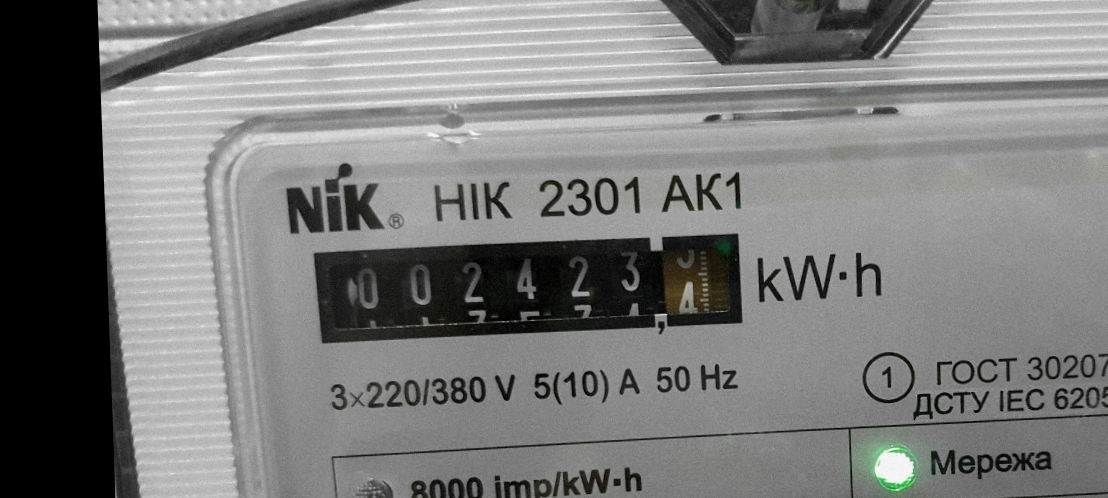0: (354, 263, 382, 312), (407, 262, 434, 307)
2: (459, 258, 486, 305), (566, 254, 591, 300)
3: (617, 248, 642, 294), (675, 246, 697, 270)
4: (513, 256, 537, 302), (674, 277, 700, 316)
screen: (302, 222, 756, 356)
